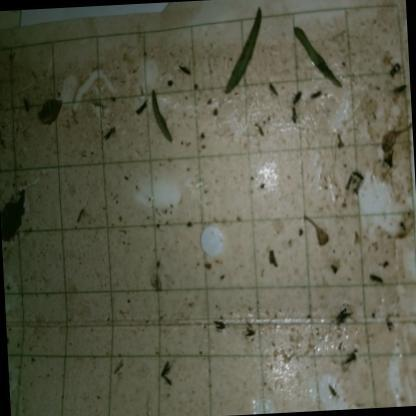prays_oleae: (64, 202, 92, 236), (336, 345, 364, 376), (332, 301, 358, 332), (382, 312, 402, 346), (240, 312, 258, 348), (172, 52, 192, 84), (208, 310, 230, 338), (304, 84, 326, 112), (158, 358, 176, 392), (97, 122, 120, 148), (262, 74, 279, 102), (285, 86, 306, 107), (364, 271, 384, 292), (380, 147, 398, 170), (385, 57, 404, 76), (286, 105, 300, 129), (391, 80, 409, 96)
